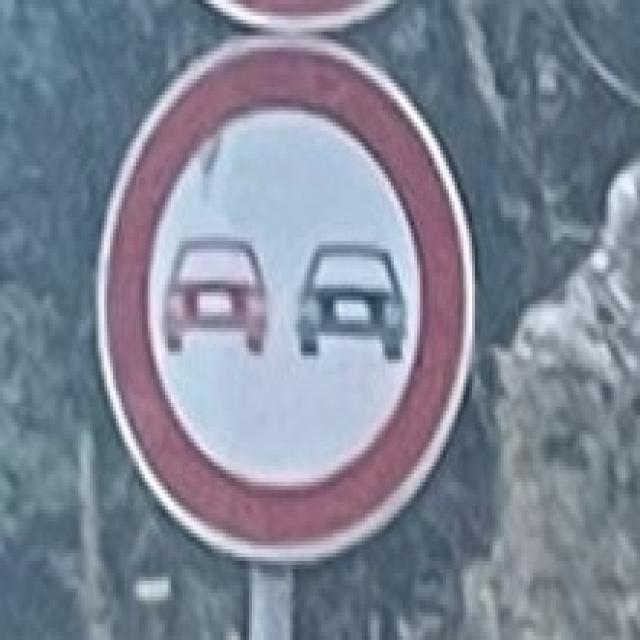forb_overtake: (90, 31, 484, 569)
